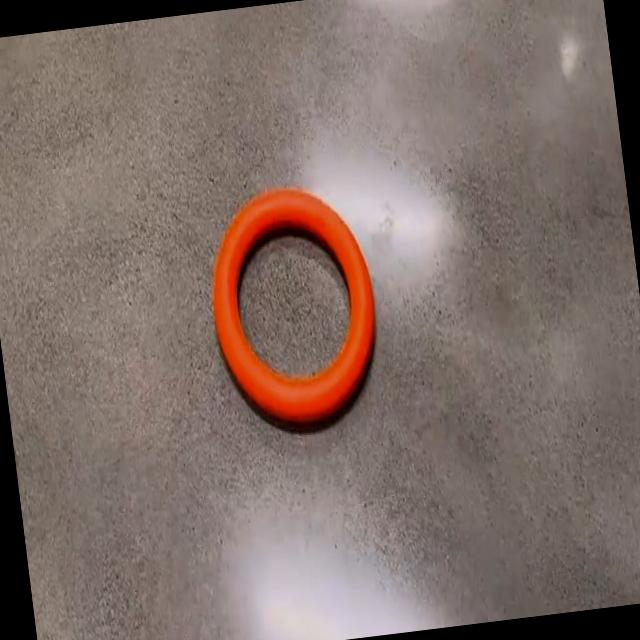note: (212, 190, 375, 424)
